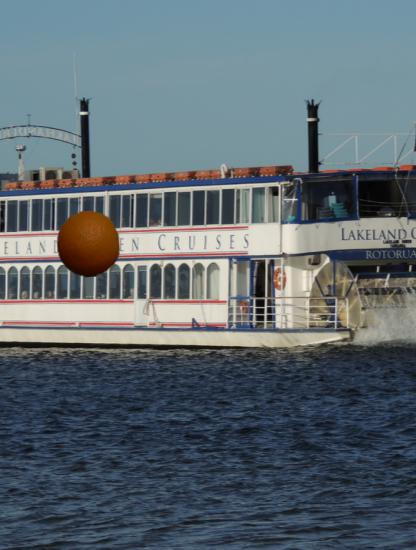Orange: (55, 211, 121, 277)
